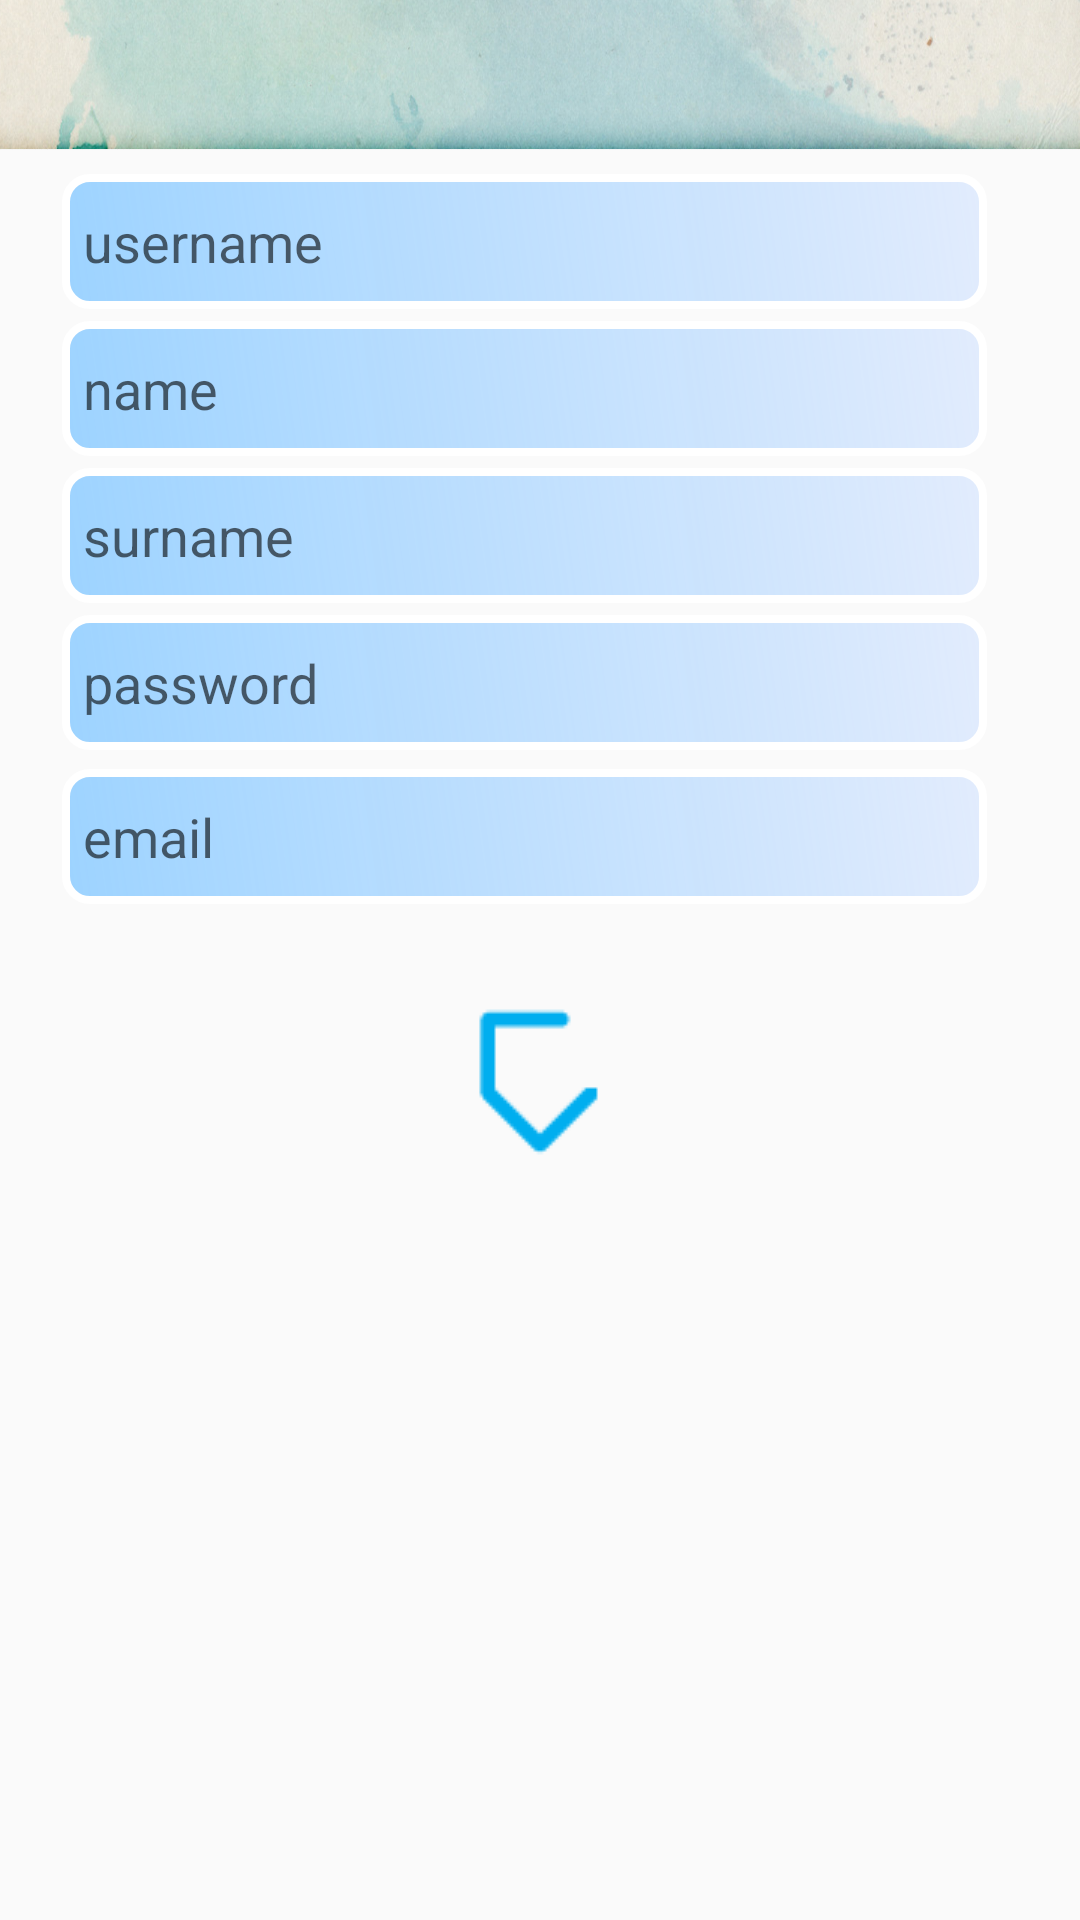

Icons on this 1080w x 1920h Android screen, each with the point to tap as [x,y]:
ok asagi mavi: [538,1081]
